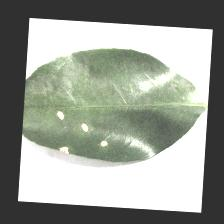canker: (42, 104, 113, 164)
